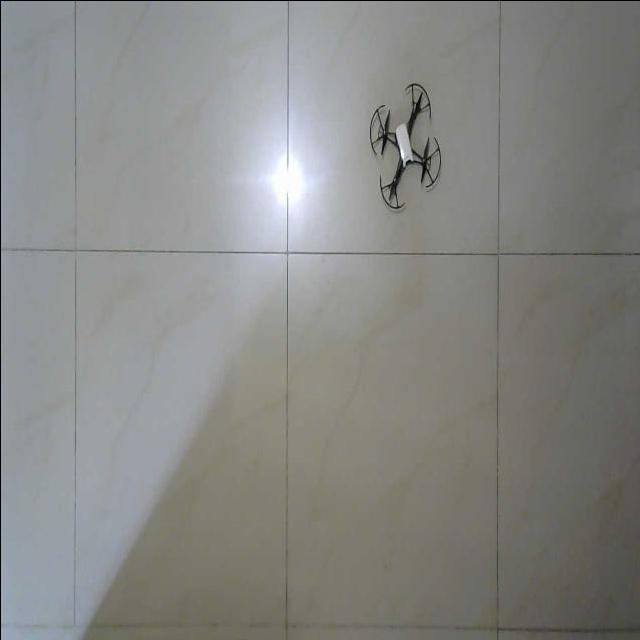drone: (369, 80, 442, 209)
